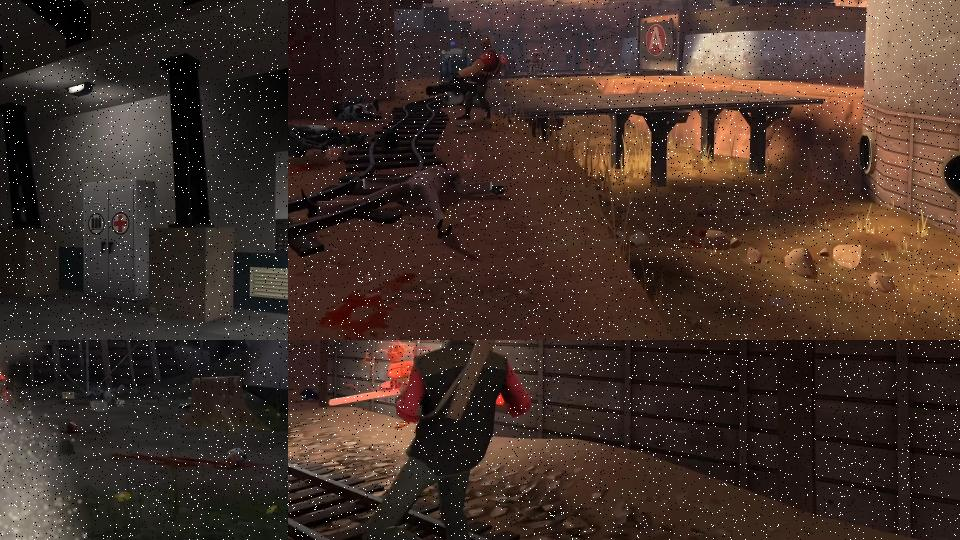Enemy: (326, 340, 533, 540), (301, 160, 508, 240), (426, 37, 508, 120), (338, 96, 382, 123)
